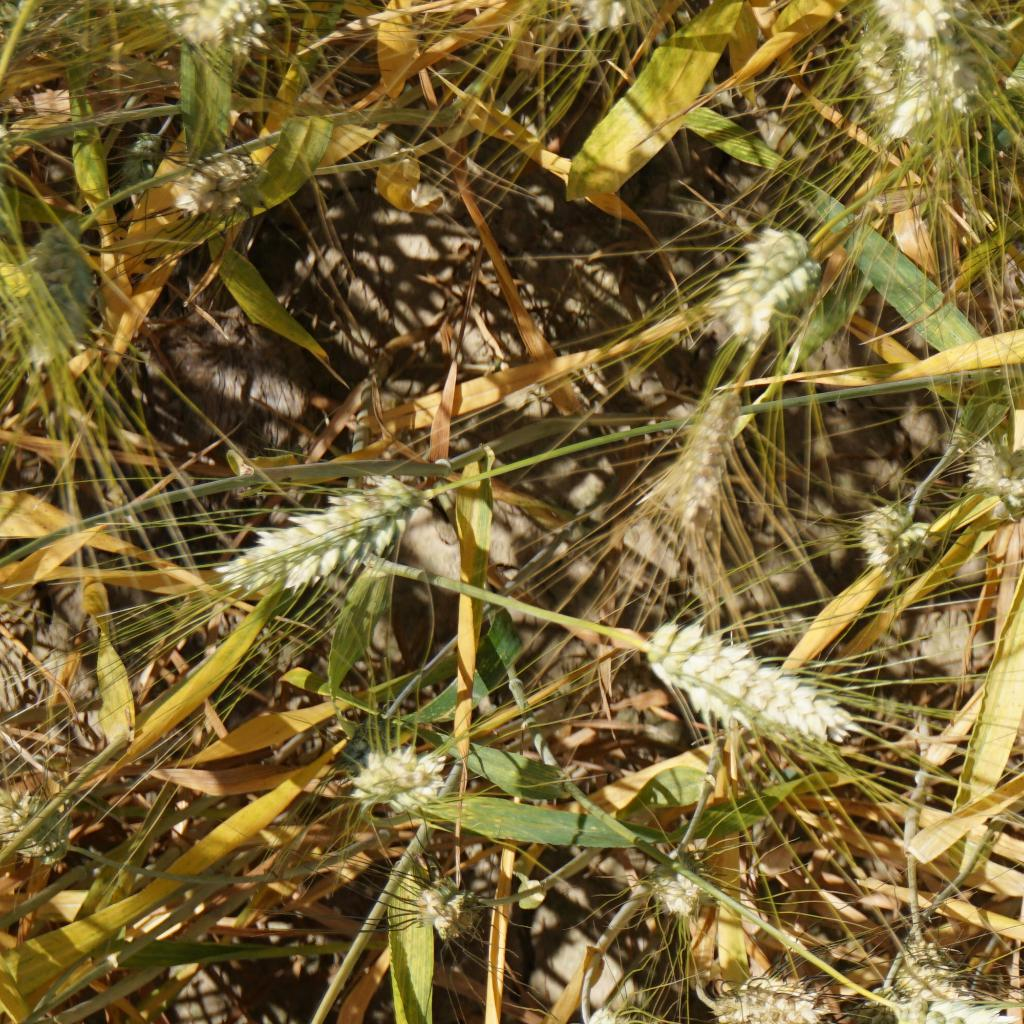0-0: (620, 606, 854, 747), (231, 468, 408, 588), (1, 225, 96, 366), (707, 231, 825, 332), (864, 492, 957, 594), (667, 388, 742, 512), (338, 742, 454, 820), (861, 43, 966, 126), (180, 142, 272, 222), (640, 854, 734, 929), (0, 789, 84, 857), (959, 432, 1024, 516), (896, 934, 975, 1001), (713, 978, 826, 1024), (417, 870, 481, 939), (881, 987, 995, 1024), (171, 0, 269, 43), (558, 0, 652, 43), (117, 123, 169, 194), (878, 0, 959, 22), (103, 0, 176, 19)
